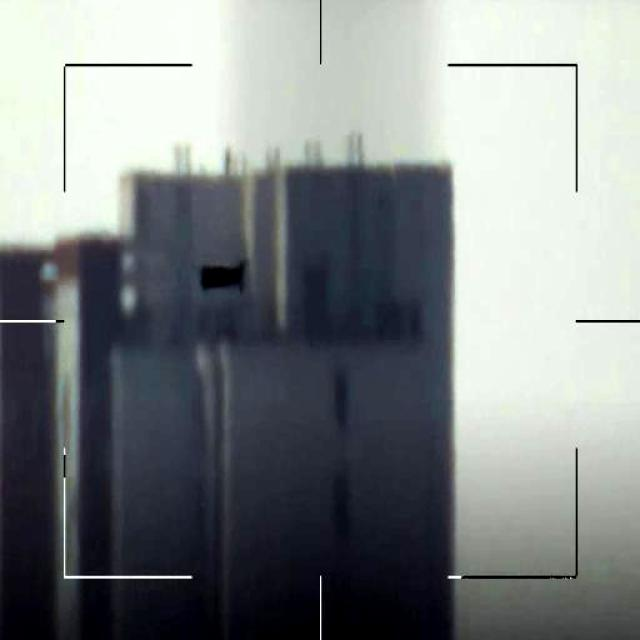bird: (195, 260, 251, 299)
